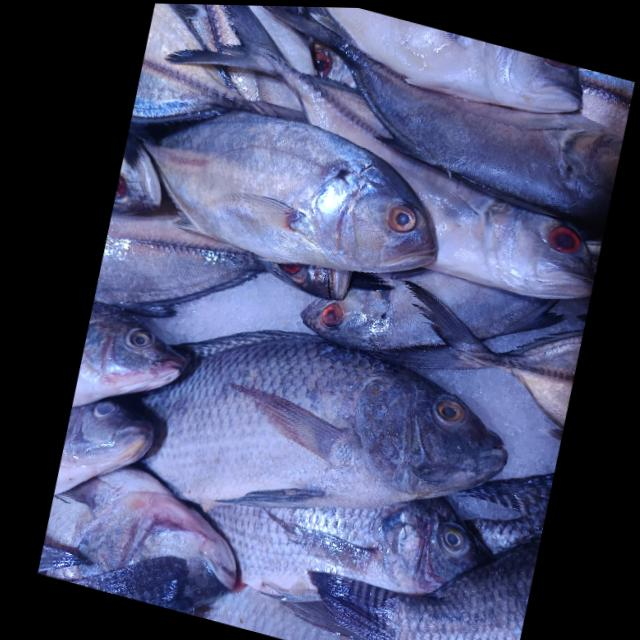Tilapia: (105, 287, 529, 577), (178, 435, 500, 640), (65, 296, 199, 432), (45, 388, 167, 526)
